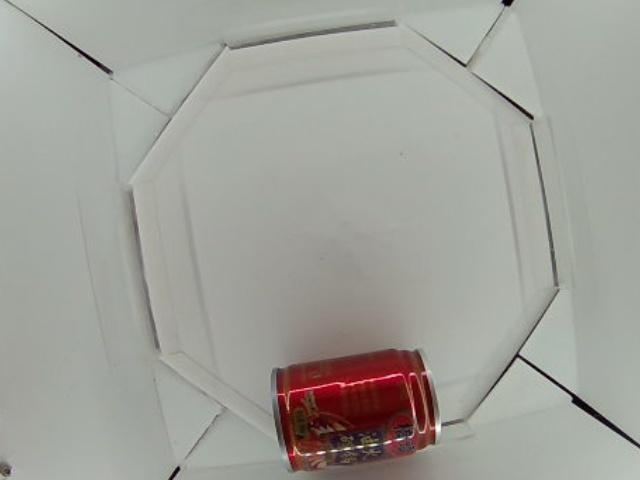Bottle: (272, 348, 444, 475)
